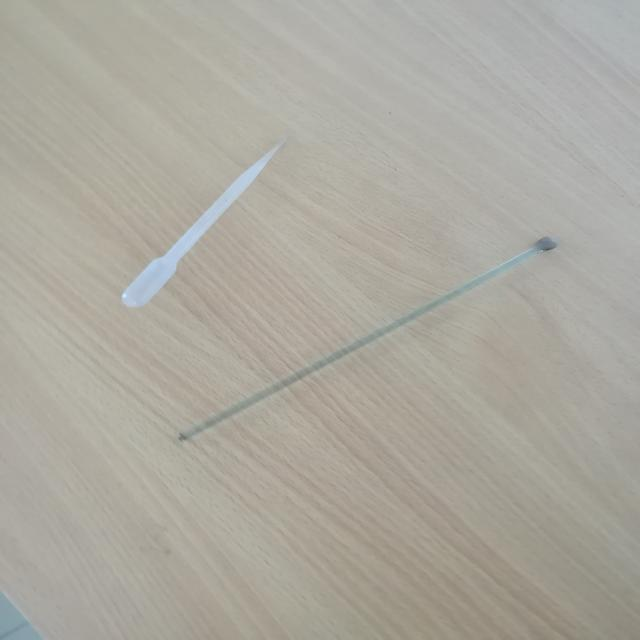Glass_Rod: (167, 218, 585, 494)
Pipette: (86, 99, 302, 315)
